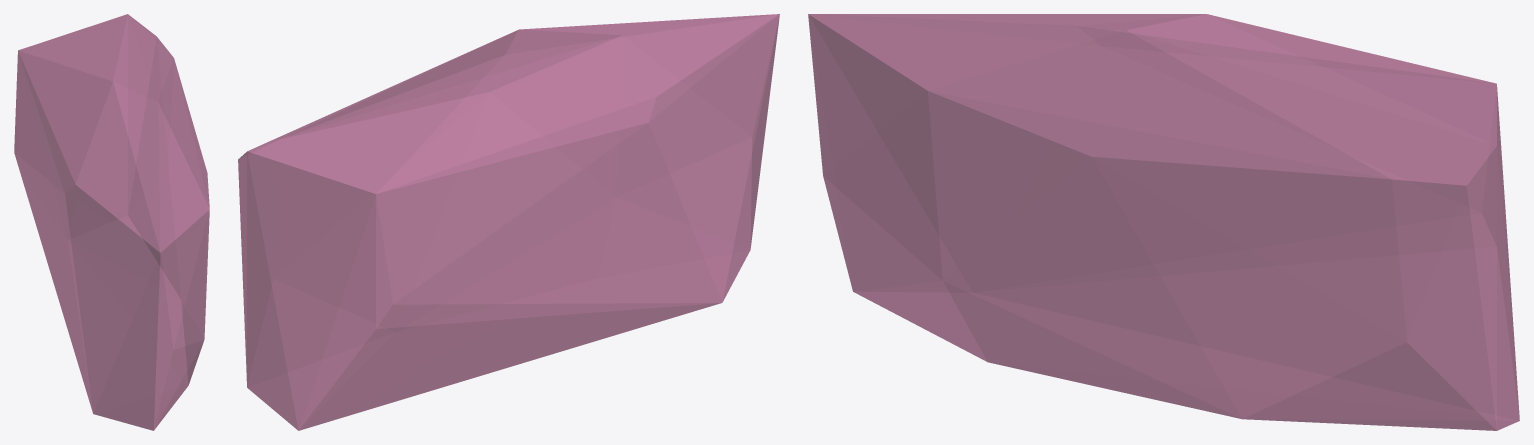
3 views of the same model, side by side, from view 1: azimuth 30°, elevation 25°; view 2: azimuth 150°, elevation 25°; view 3: azimuth 270°, elevation 25° (orthographic). The views are drawn at different scales.
Visible parts, largest first — view 1: Shape_IndexedFaceSet.037_Shape_IndexedFaceSet.860; view 2: Shape_IndexedFaceSet.037_Shape_IndexedFaceSet.860; view 3: Shape_IndexedFaceSet.037_Shape_IndexedFaceSet.860.
Part boxes in pixels (x1=…): Shape_IndexedFaceSet.037_Shape_IndexedFaceSet.860: x1=14, y1=14, x2=209, y2=430; Shape_IndexedFaceSet.037_Shape_IndexedFaceSet.860: x1=238, y1=14, x2=779, y2=430; Shape_IndexedFaceSet.037_Shape_IndexedFaceSet.860: x1=808, y1=14, x2=1519, y2=430.
Size of the model in its own units: 0.1943 by 0.1992 by 0.3552.
